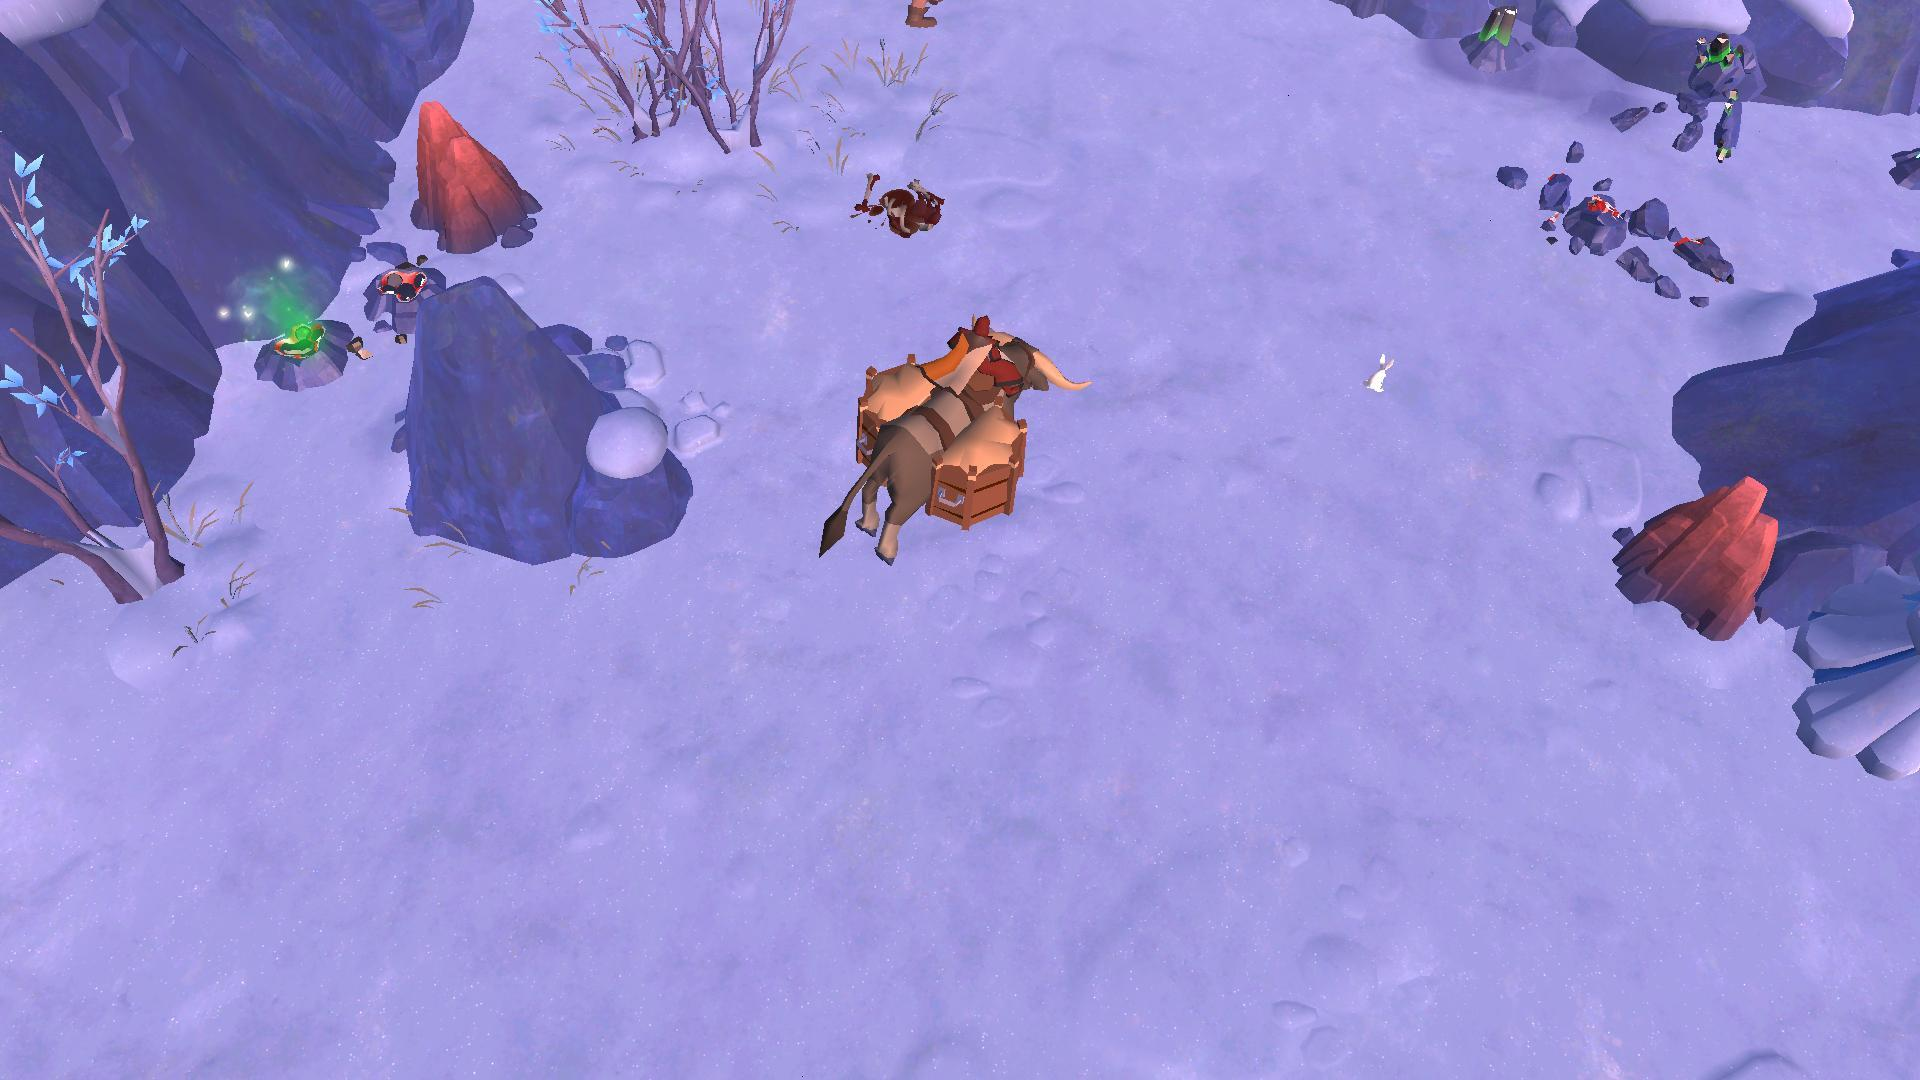ore_t3: (1461, 0, 1524, 65)
rock_t5: (1597, 471, 1780, 641), (398, 90, 547, 253)
